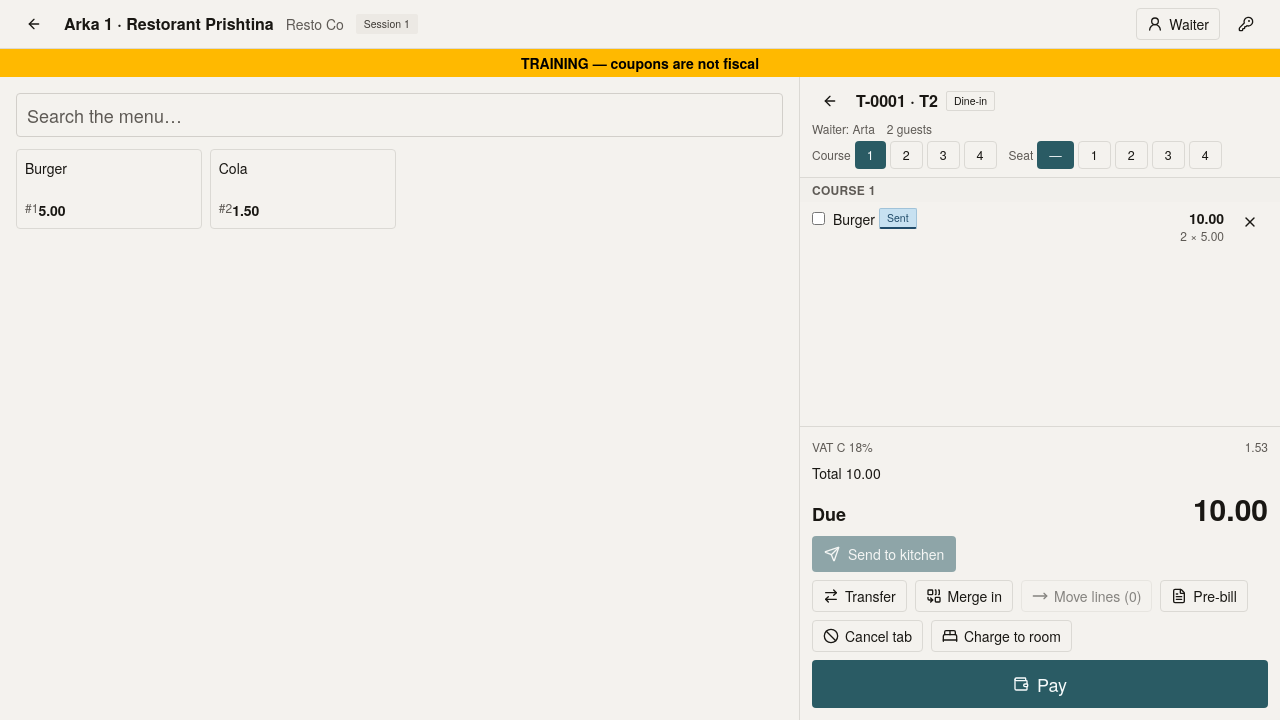
Test: Till — restaurant (P3) › pays a whole tab: the order carries the tab and its lines by tabLineId, with the tip on the tender
Click the button "Pay" at (1040, 684), box [812,660,1268,708]
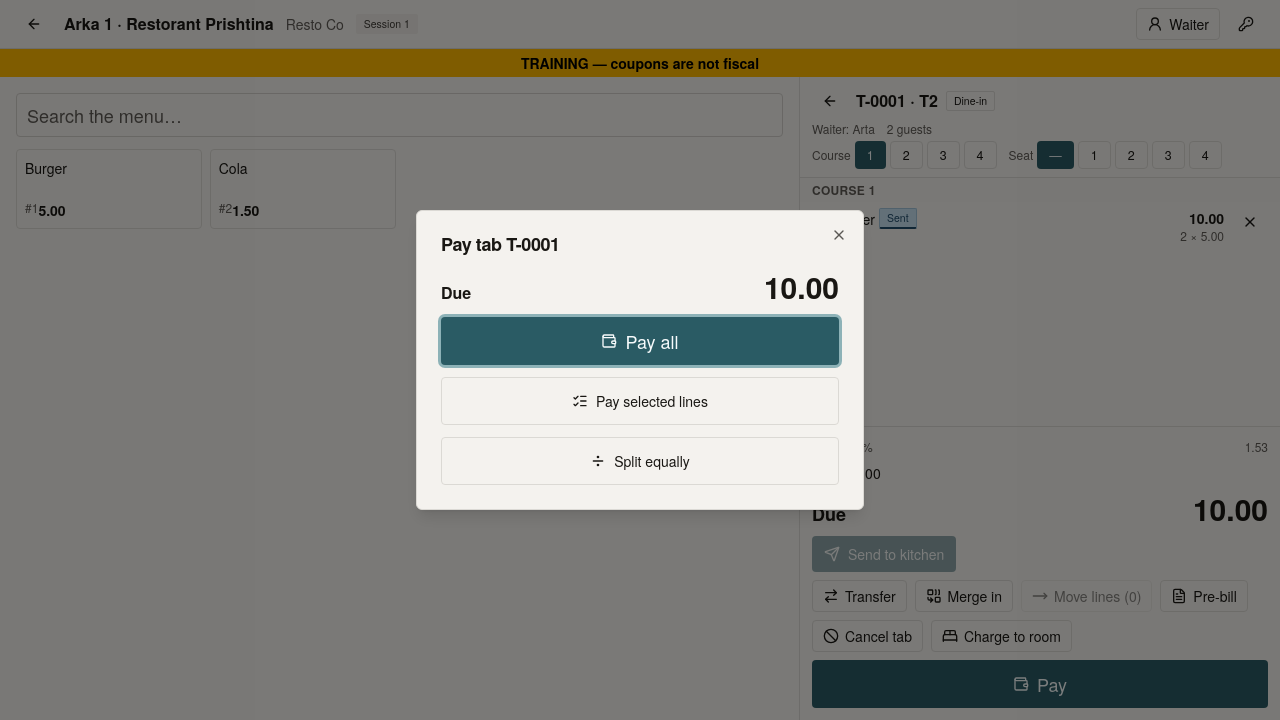
Click the button "Pay all" at (640, 341), box [441,317,839,365]
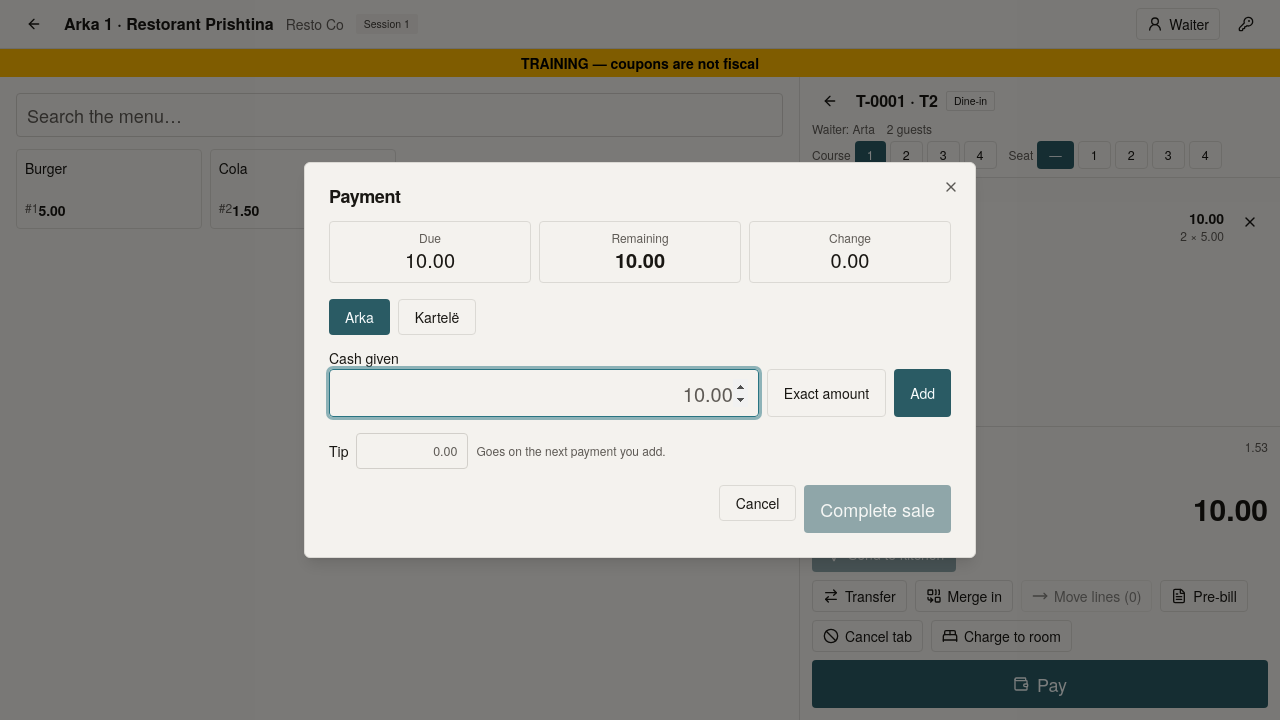
Type "2" into the field labelled "Tip" at (412, 451), box [356,433,468,469]
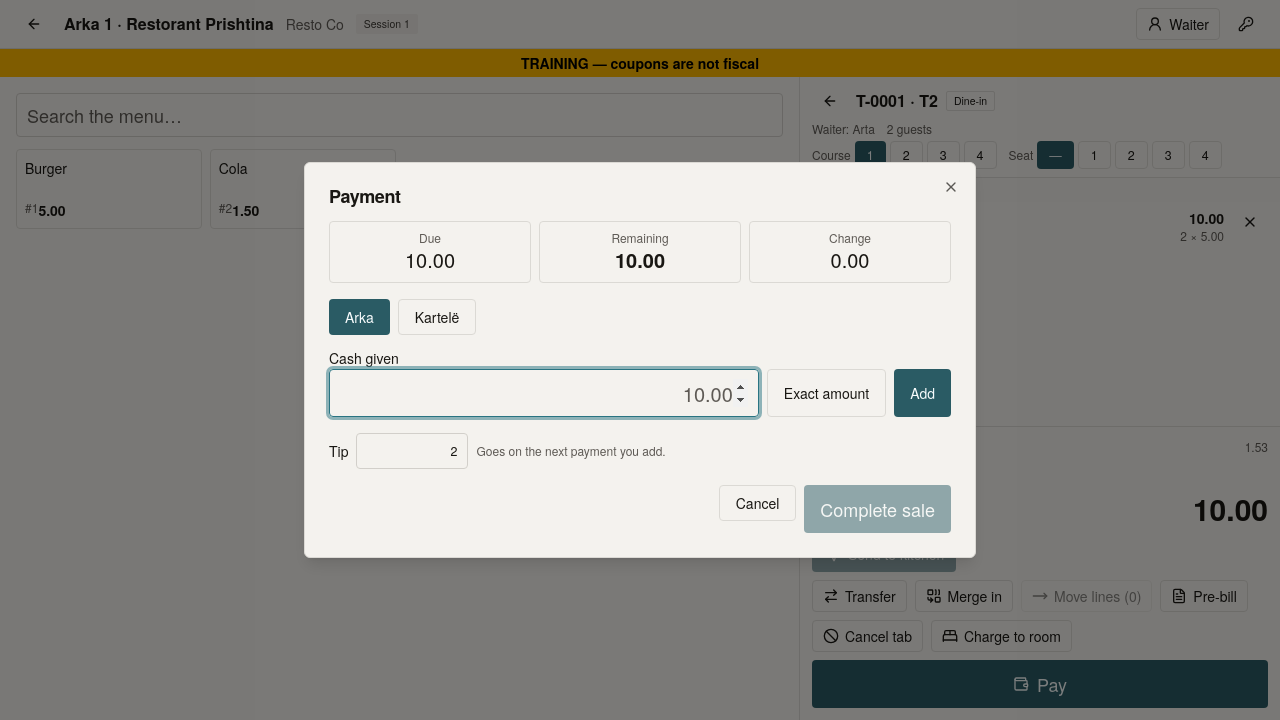
Type "20" into the number field labelled "Cash given" at (544, 393), box [329,369,759,417]
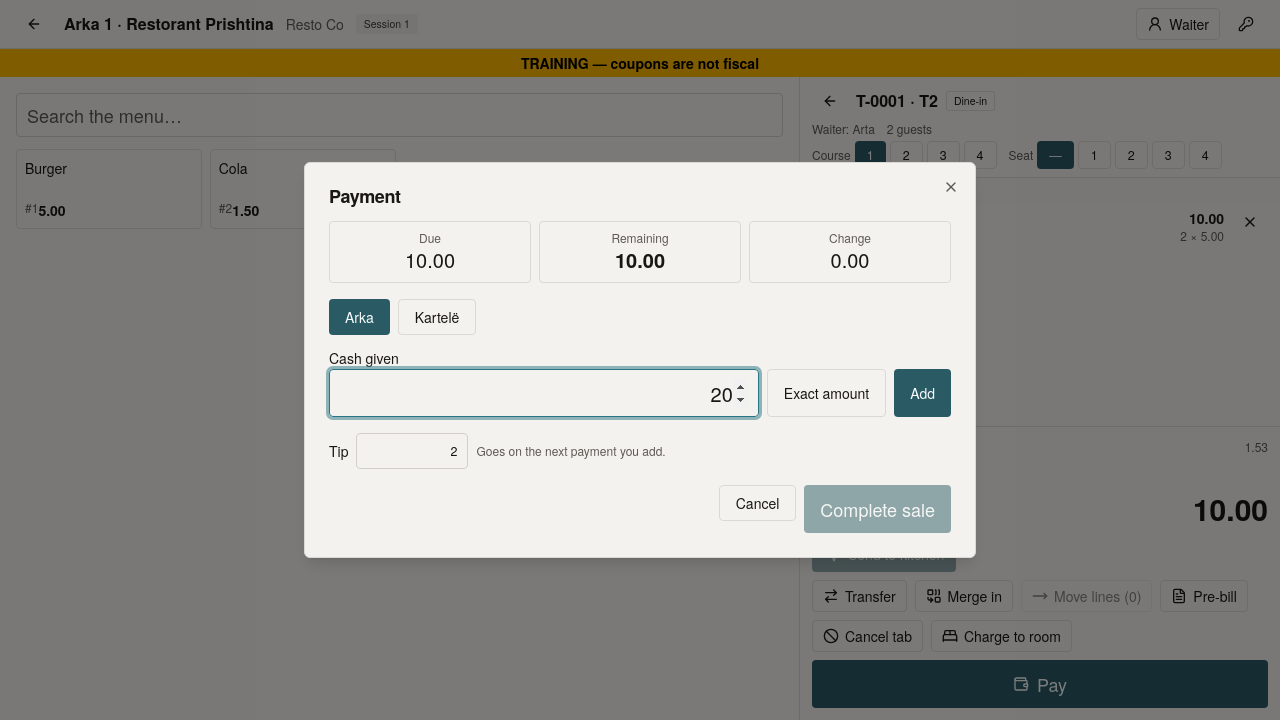
Check: the button "Add" is enabled
Click the button "Add" at (923, 393), box [894,369,951,417]
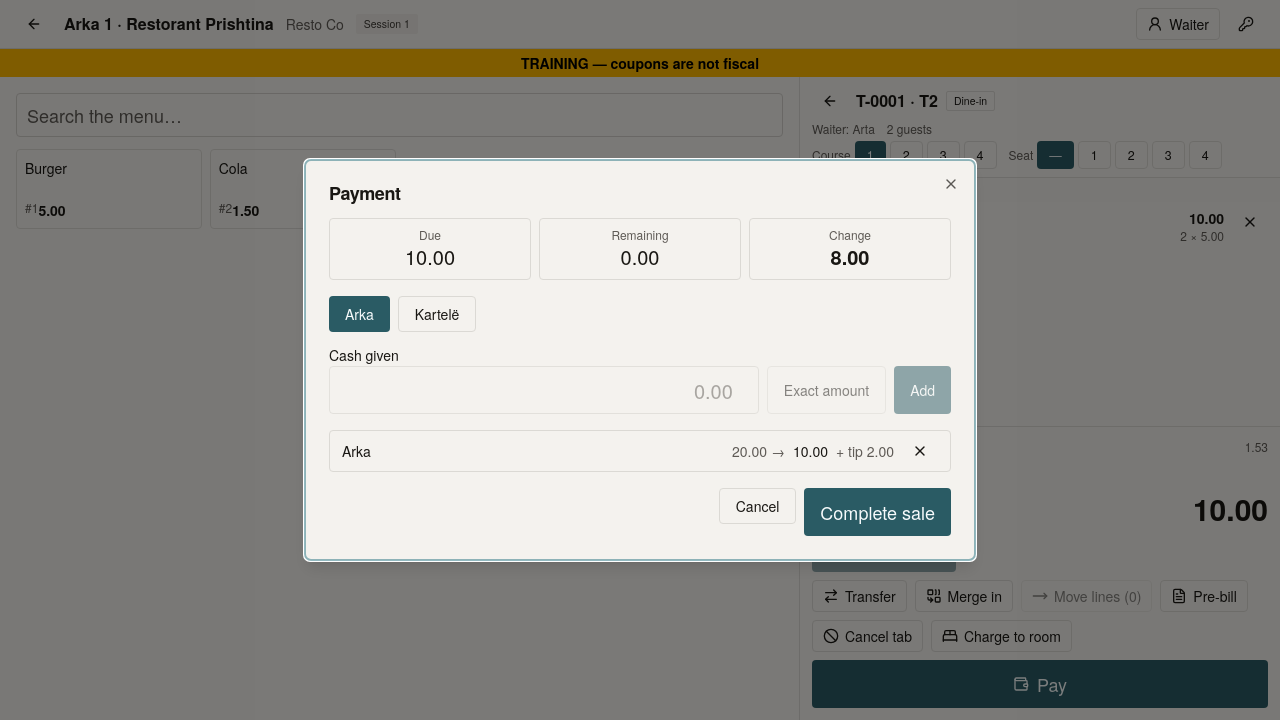
Check: the text with test id "tender-tip" reads "+ tip 2.00", box [836,441,894,461]
Check: the button "Complete sale" is enabled
Click the button "Complete sale" at (878, 512), box [804,488,951,536]
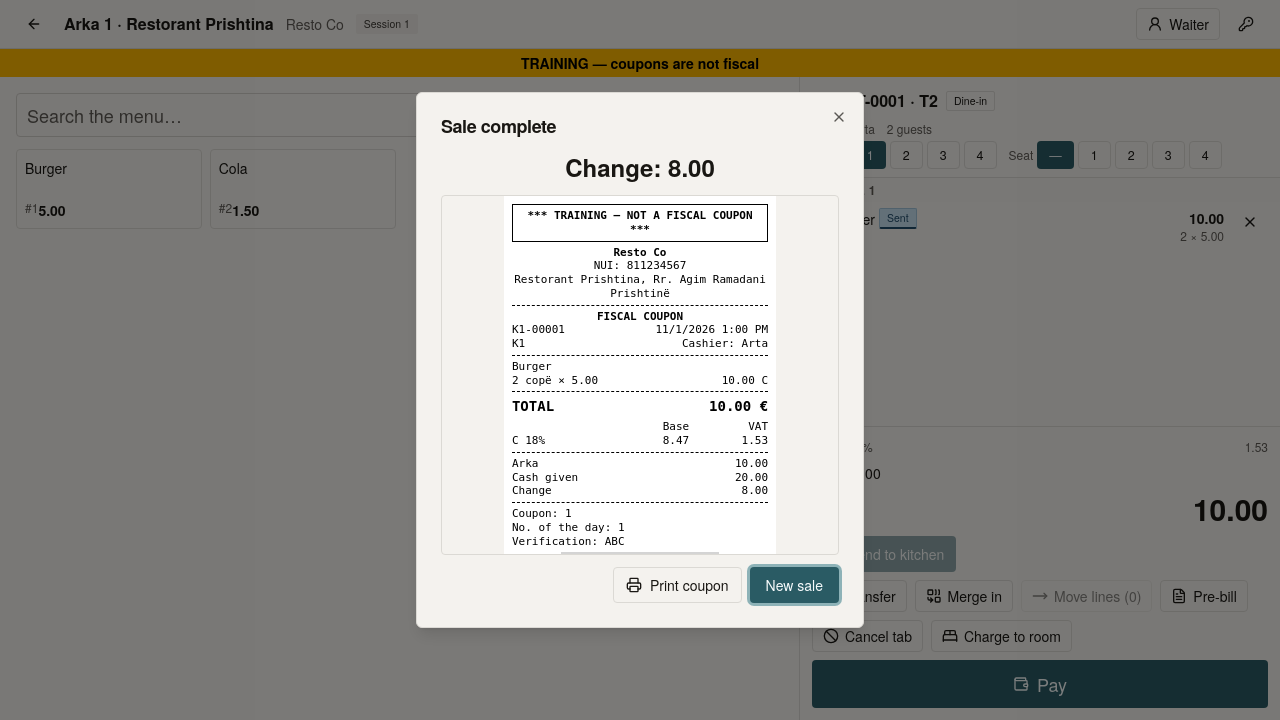
Check: the text "Change: 8.00" is shown, box [565,150,715,184]
